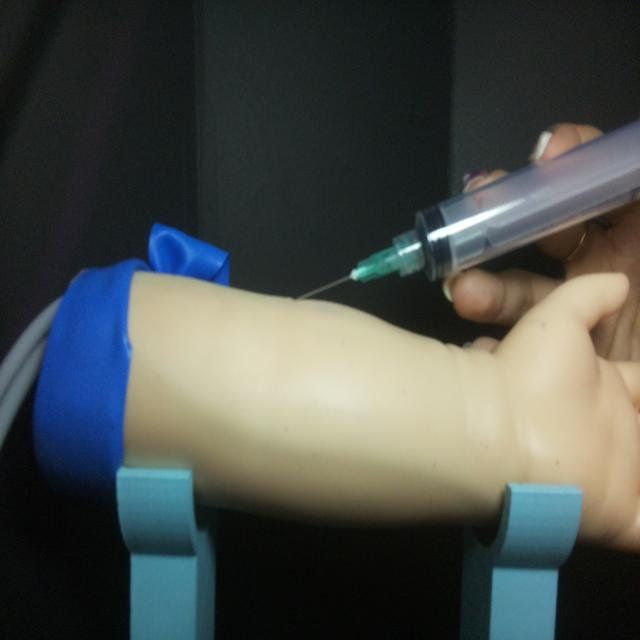16deg: (292, 114, 638, 306)
